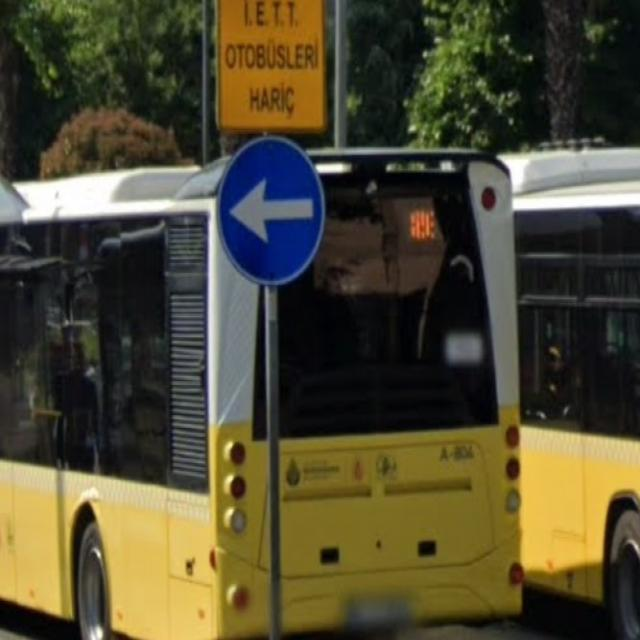Turn Left: (214, 127, 326, 291)
